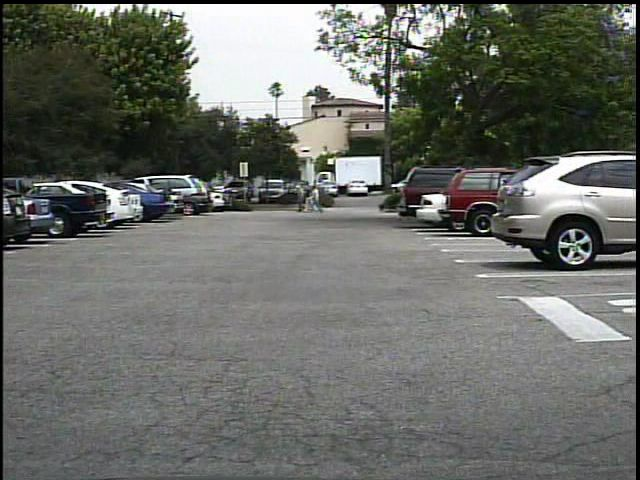person: (308, 185, 327, 216), (293, 185, 308, 215), (304, 186, 317, 217)
